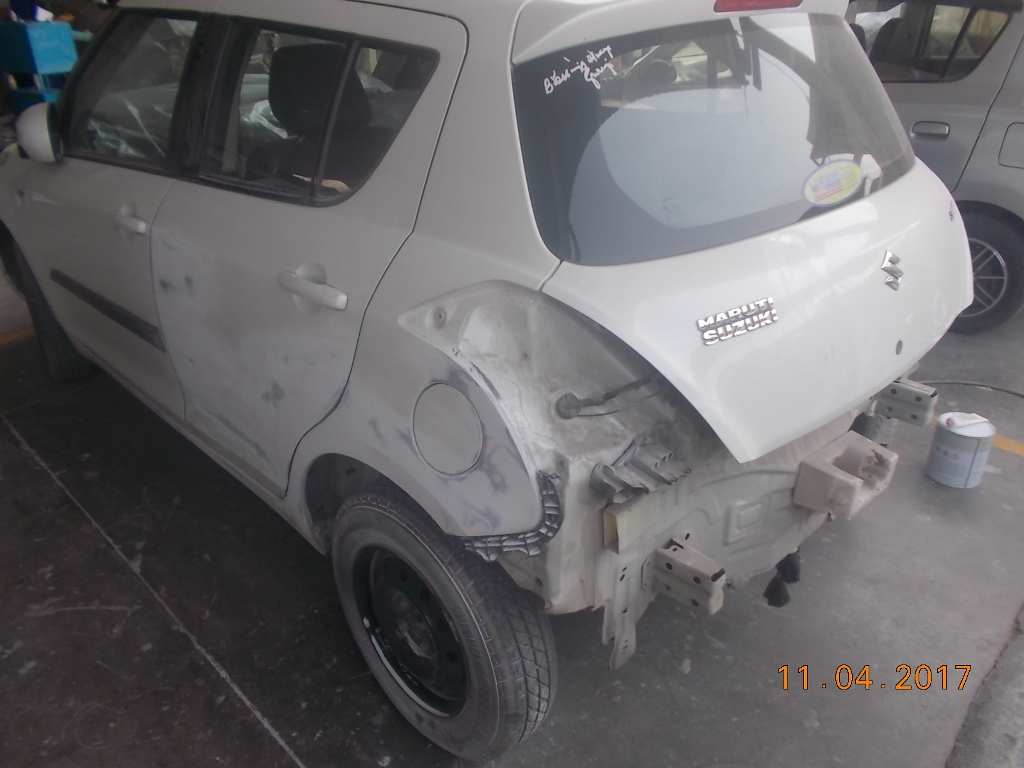Large_tear_or_damage: (424, 324, 949, 658)
